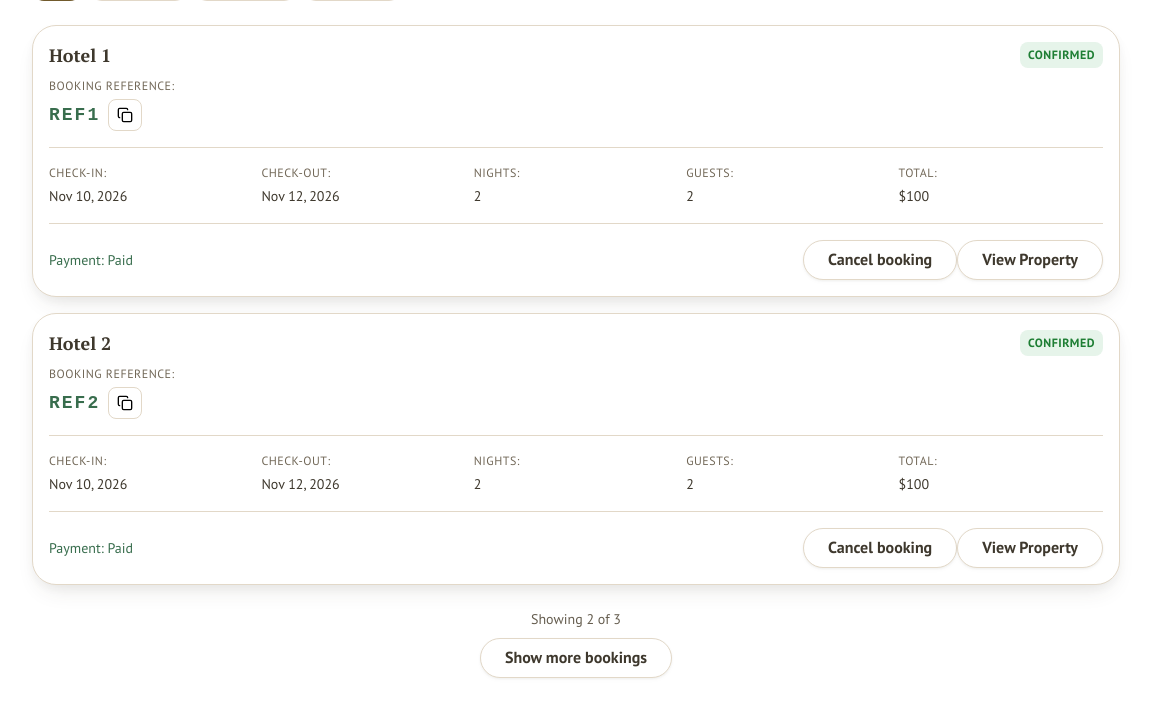
BookingsPage pages › shows the first page, then adds the next one under it
(page scrolled)
Expected: the link "Hotel 1" is shown, [49,43,111,67]
Expected: the text "Showing 2 of 3" is shown, [531,609,621,630]
Click the button "Show more bookings": x=576, y=658 [480,638,672,678]
(page scrolled)
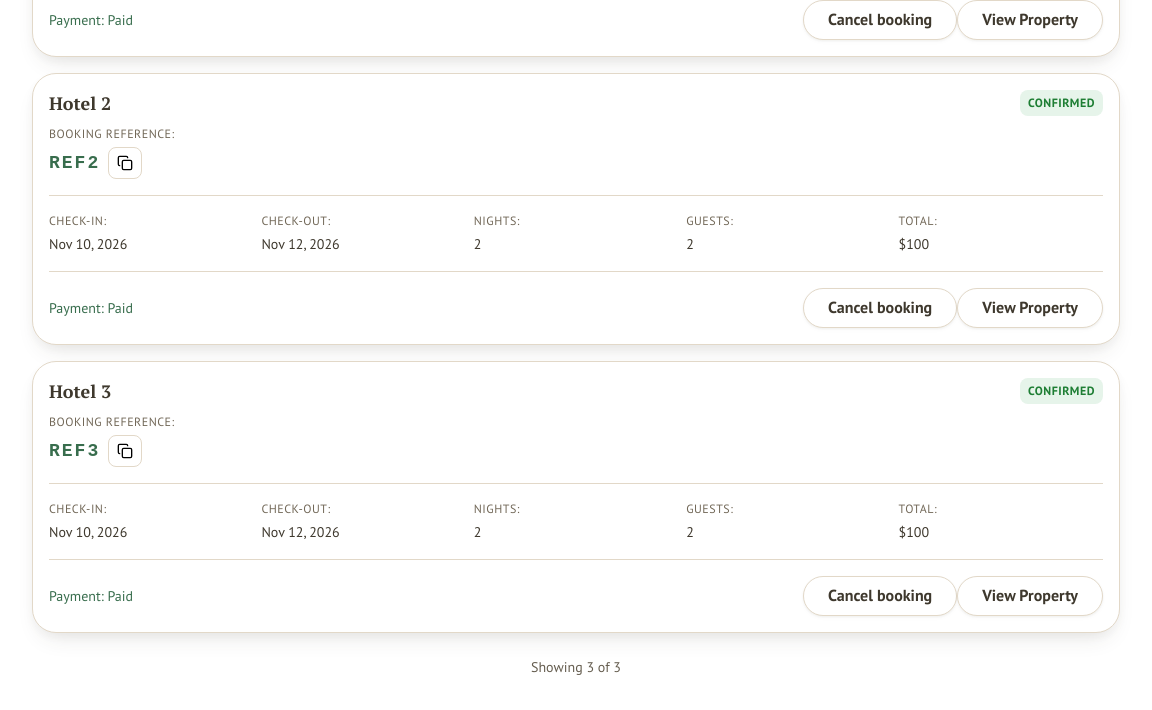
Expected: the link "Hotel 3" is shown, [49,379,111,403]
Expected: the text "Showing 3 of 3" is shown, [531,657,621,678]
Expected: the button "Show more bookings" is gone
